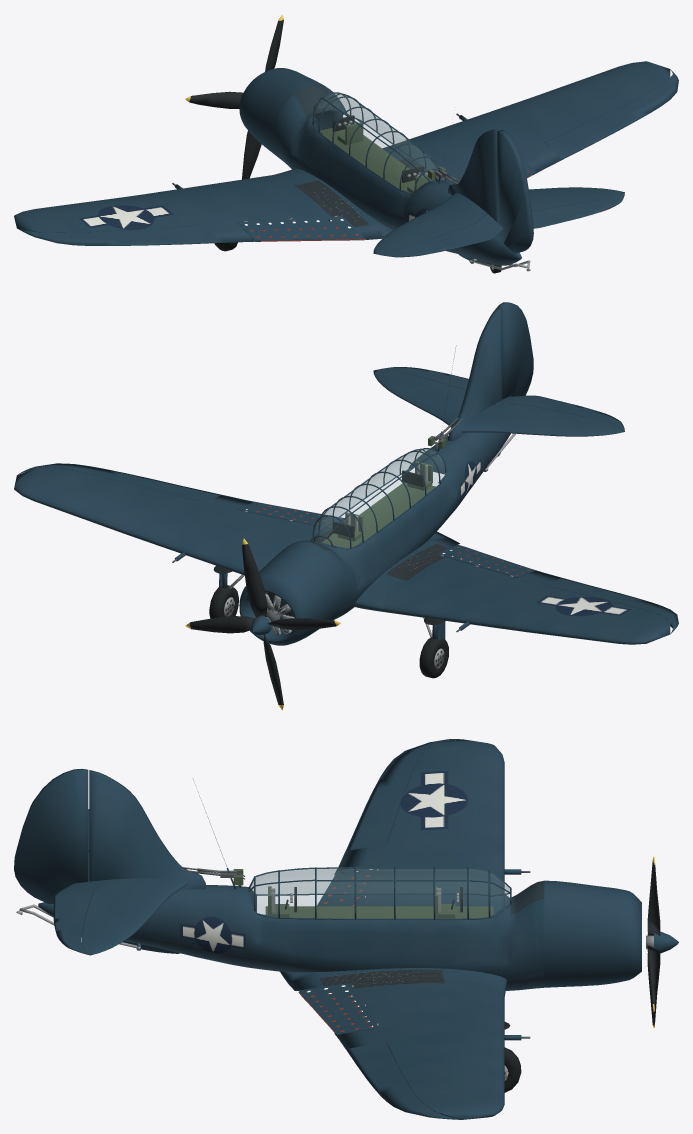
3 views of the same model, one above another, from view 1: azimuth 30°, elevation 25°; view 2: azimuth 150°, elevation 25°; view 3: azimuth 270°, elevation 25° (orthographic). The views are drawn at different scales.
Parts seen in each view (by area): view 1: aircraft.root.mesh, control.rudder.mesh, control.aileron.starboard.mesh, control.aileron.port.mesh, diveBrake.port.mesh, control.elevator.port.mesh, propeller.spin.mesh, control.elevator.starboard.mesh; view 2: aircraft.root.mesh, propeller.spin.mesh, control.rudder.mesh, control.aileron.starboard.mesh, control.aileron.port.mesh, diveBrake.port.mesh, gear.port.mesh, control.elevator.port.mesh, diveBrake.starboard.mesh, gear.starboard.mesh, control.elevator.starboard.mesh; view 3: aircraft.root.mesh, control.rudder.mesh, control.aileron.port.mesh, control.aileron.starboard.mesh, diveBrake.starboard.mesh, control.elevator.starboard.mesh, propeller.spin.mesh, diveBrake.port.mesh, gear.starboard.mesh.
Part boxes in pixels (x1,y1,x2,y2): aircraft.root.mesh: [14, 61, 678, 265]; control.rudder.mesh: [497, 130, 533, 253]; control.aileron.starboard.mesh: [545, 74, 678, 159]; control.aileron.port.mesh: [30, 225, 221, 245]; diveBrake.port.mesh: [237, 215, 364, 240]; control.elevator.port.mesh: [374, 214, 503, 257]; propeller.spin.mesh: [185, 14, 283, 179]; control.elevator.starboard.mesh: [532, 192, 624, 228]; aircraft.root.mesh: [14, 307, 678, 645]; propeller.spin.mesh: [185, 538, 340, 710]; control.rudder.mesh: [497, 302, 533, 399]; control.aileron.starboard.mesh: [29, 463, 221, 501]; control.aileron.port.mesh: [545, 578, 678, 628]; diveBrake.port.mesh: [437, 545, 535, 577]; gear.port.mesh: [419, 617, 448, 678]; control.elevator.port.mesh: [493, 395, 624, 431]; diveBrake.starboard.mesh: [237, 501, 345, 529]; gear.starboard.mesh: [209, 567, 244, 618]; control.elevator.starboard.mesh: [375, 367, 468, 389]; aircraft.root.mesh: [38, 739, 641, 1119]; control.rudder.mesh: [14, 768, 88, 904]; control.aileron.port.mesh: [346, 740, 443, 850]; control.aileron.starboard.mesh: [346, 1043, 442, 1117]; diveBrake.starboard.mesh: [299, 983, 379, 1034]; control.elevator.starboard.mesh: [53, 879, 110, 955]; propeller.spin.mesh: [646, 856, 678, 1028]; diveBrake.port.mesh: [317, 864, 379, 906]; gear.starboard.mesh: [497, 1015, 521, 1092].
Bounding box in the file's own units: 15.16 × 5.01 × 11.19.
11 materials, 1 textured.
